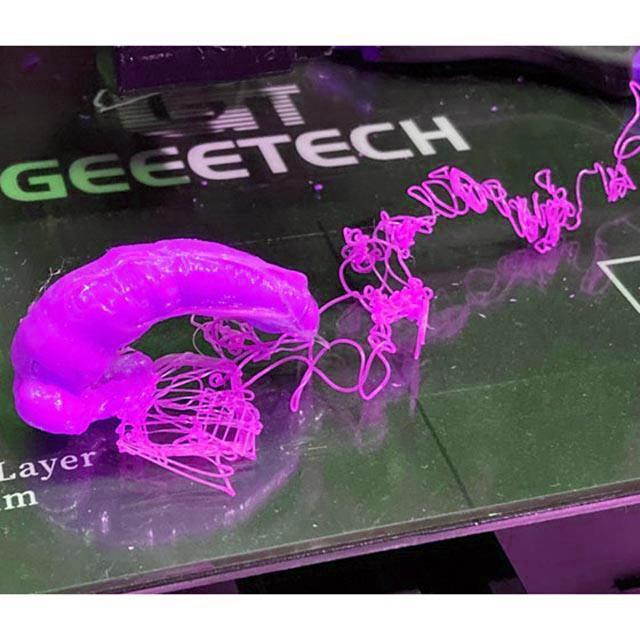spaghetti: (340, 79, 640, 361), (111, 316, 396, 500)
